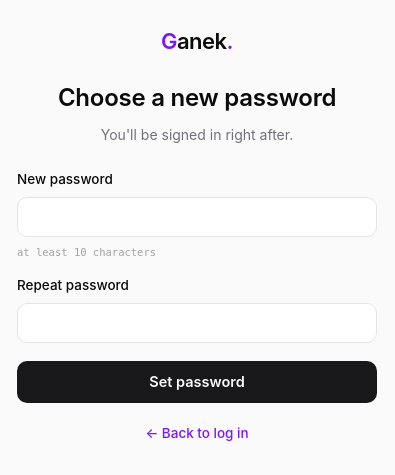
Test: ResetPasswordPage › rejects mismatched passwords locally
Type "a-brand-new-password" into the password field labelled "New password" at (197, 217), box [17,197,377,237]
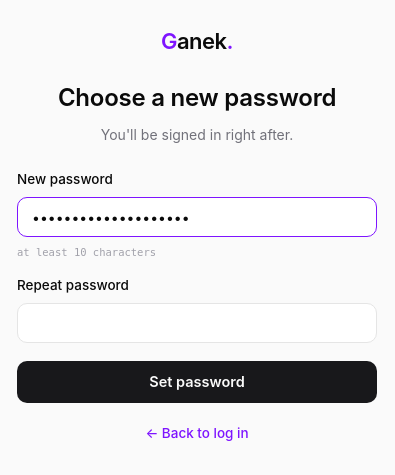
Type "a-different-password" into the password field labelled "Repeat password" at (197, 323), box [17,303,377,343]
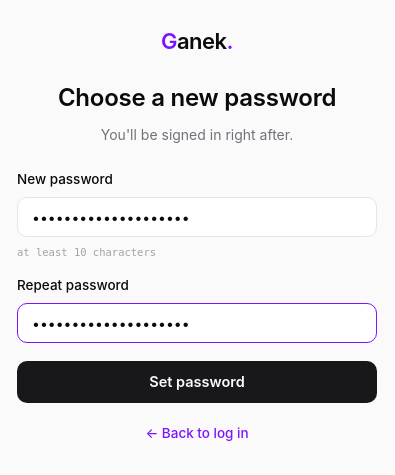
Click the button "Set password" at (197, 382), box [17,361,377,403]
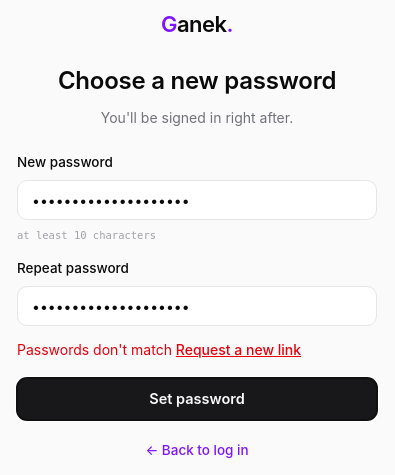
Check: the message shows "don't match", box [17,341,172,358]
